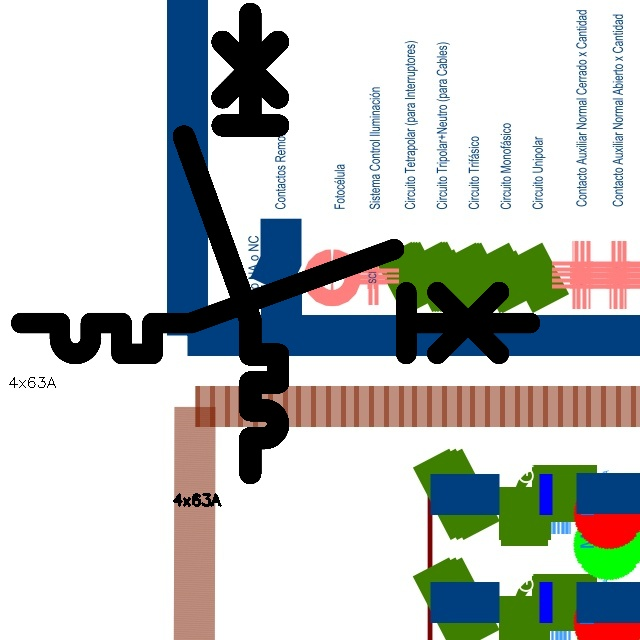interruptor_termomagnetico: (8, 236, 543, 367), (172, 2, 290, 485)
